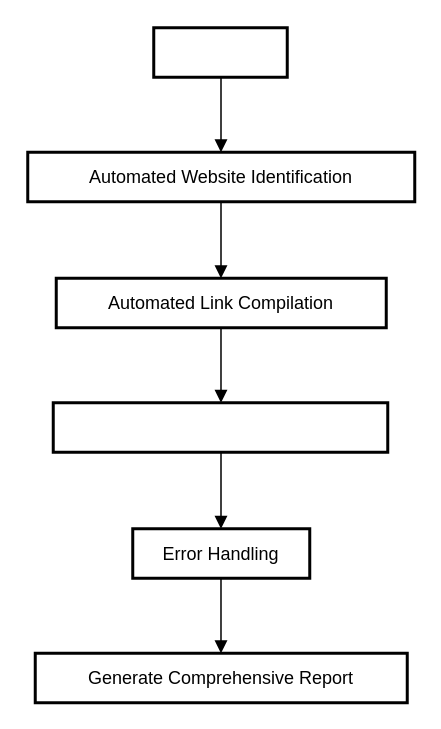
Image size: 441x729. Some labels were removed from this diagram. The shapes that lost their labels are listed below. From the top down, each one's centre as x and y in pixels, then its label:
[220,52]: User Input
[219,426]: Test Web Scraping Capability
